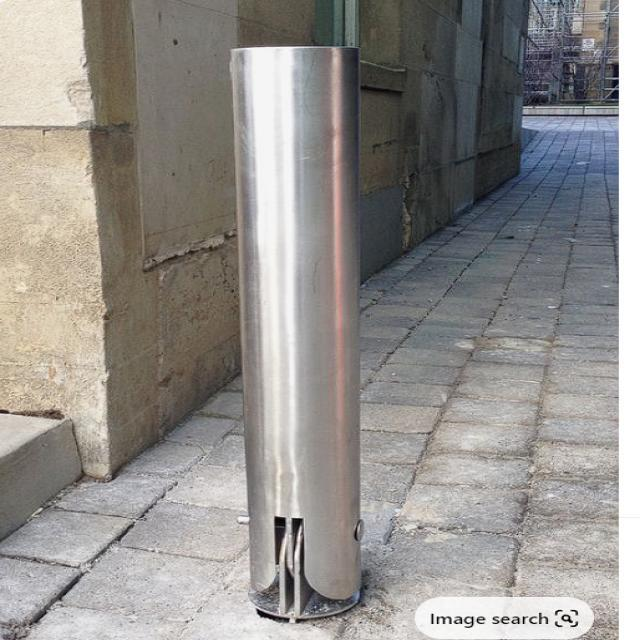obstacle: (220, 39, 374, 601)
